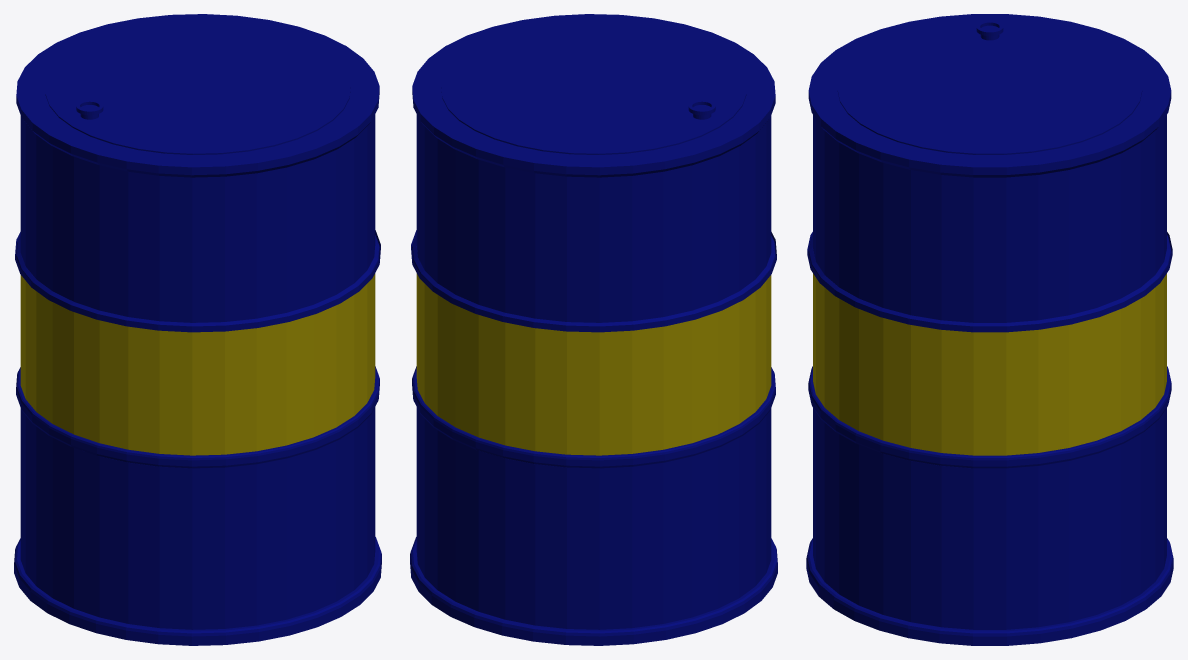
File: Oil Barrel.fbx
3 views of the same model, side by side, from view 1: azimuth 30°, elevation 25°; view 2: azimuth 150°, elevation 25°; view 3: azimuth 270°, elevation 25° (orthographic).
Parts seen in each view (by area): view 1: Cylinder; view 2: Cylinder; view 3: Cylinder.
Boxes of the visible parts, <box> form: Cylinder: <box>14,14,381,645</box>; Cylinder: <box>410,14,777,645</box>; Cylinder: <box>806,14,1173,645</box>.
Bounding box in the file's own units: 59.32 × 87.09 × 59.32.
